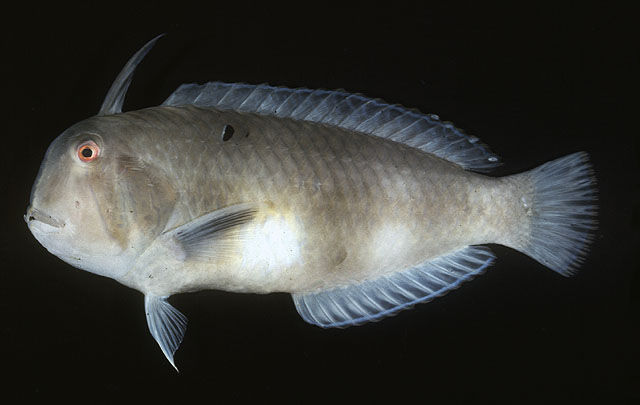fish: (26, 33, 599, 373)
